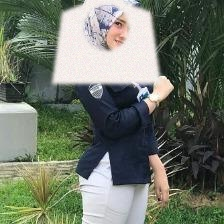Mukena: (52, 0, 160, 83)
